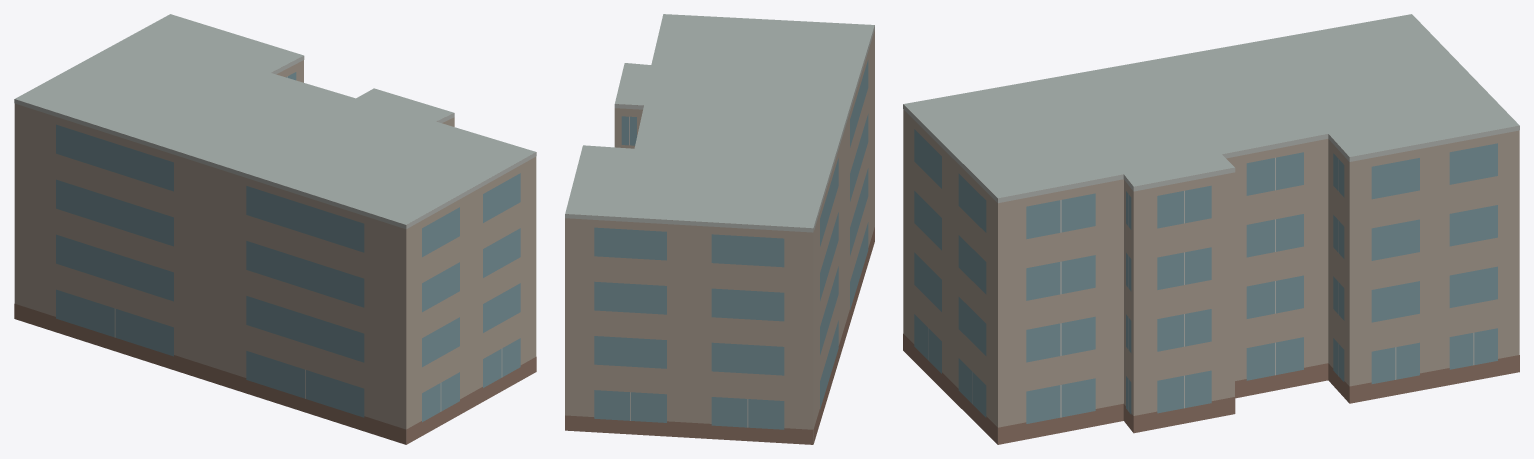
Rendered from survey-upis-32859638.glb.
3 renders of one model, left to right at view 1: azimuth 30°, elevation 25°; view 2: azimuth 150°, elevation 25°; view 3: azimuth 270°, elevation 25°, orthographic. The views are drawn at different scales.
Parts seen in each view (by area): view 1: survey-upis-32859638.tmp; view 2: survey-upis-32859638.tmp; view 3: survey-upis-32859638.tmp.
Boxes of the visible parts, bbox=[...] form: survey-upis-32859638.tmp: bbox=[14, 14, 536, 444]; survey-upis-32859638.tmp: bbox=[565, 14, 874, 444]; survey-upis-32859638.tmp: bbox=[903, 14, 1519, 444].
Size of the model in its own units: 19.74 by 12.3 by 27.9.
